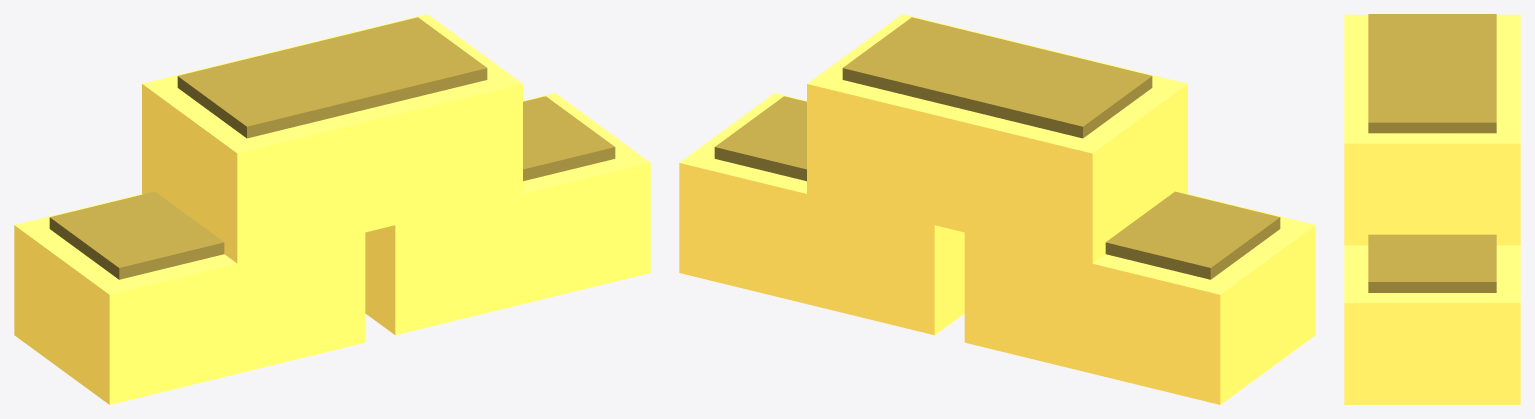
Rendered from gold_bars.glb.
The picture shows the model from 3 angles, left to right: view 1: azimuth 30°, elevation 25°; view 2: azimuth 150°, elevation 25°; view 3: azimuth 270°, elevation 25°; orthographic projection. The views are drawn at different scales.
Parts seen in each view (by area): view 1: GoldBars; view 2: GoldBars; view 3: GoldBars.
Boxes of the visible parts, <box> form: GoldBars: <box>14,14,650,404</box>; GoldBars: <box>679,14,1315,404</box>; GoldBars: <box>1344,14,1520,404</box>.
Size of the model in its own units: 0.72 by 0.295 by 0.22.
